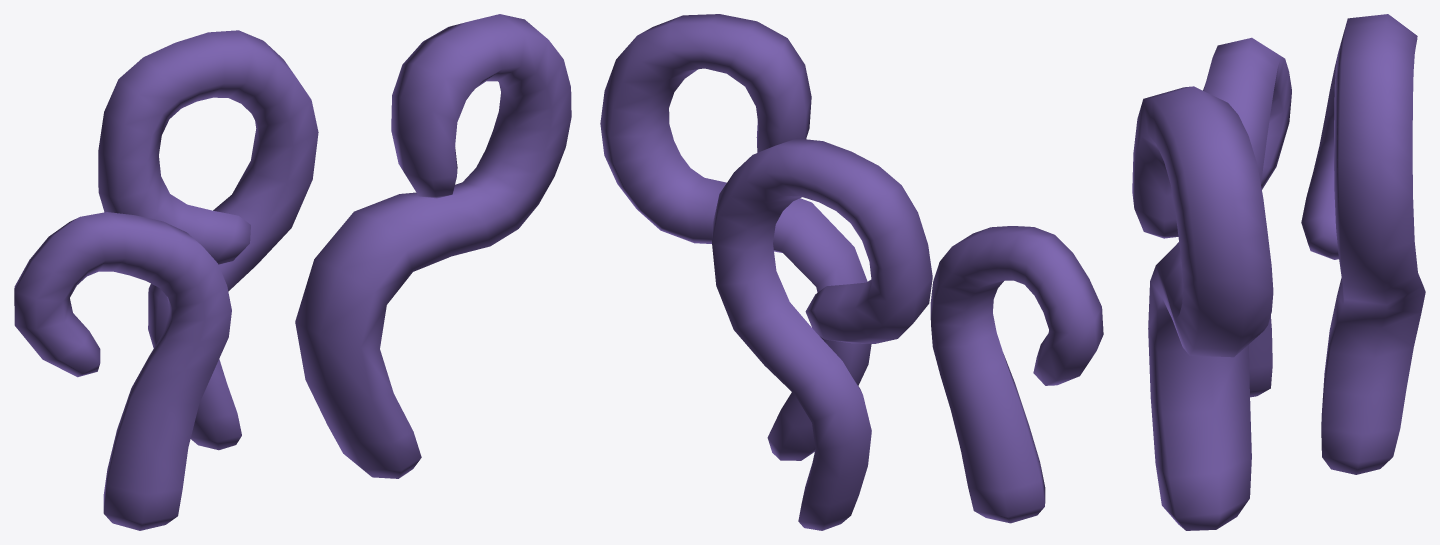
The model's file is Spiroots_01.glb.
3 views of the same model, side by side, from view 1: azimuth 30°, elevation 25°; view 2: azimuth 150°, elevation 25°; view 3: azimuth 270°, elevation 25° (orthographic). The views are drawn at different scales.
Visible parts, largest first — view 1: Spiroots_01_LOD0; view 2: Spiroots_01_LOD0; view 3: Spiroots_01_LOD0.
Part boxes in pixels (x1,y1,x2,y2): Spiroots_01_LOD0: (14, 14, 571, 530); Spiroots_01_LOD0: (600, 14, 1103, 530); Spiroots_01_LOD0: (1132, 14, 1425, 530).
Size of the model in its own units: 5.88 by 4.6 by 2.6.
Materials: 1 (1 with a texture image).
